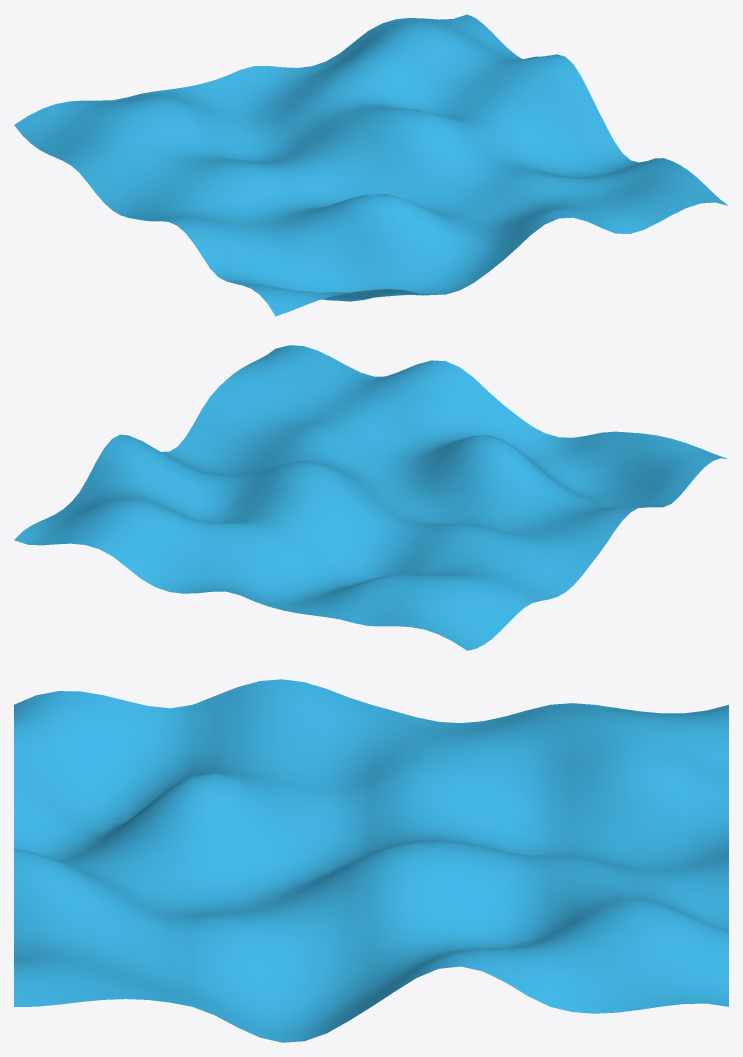
File: asd.gltf
3 views of the same model, one above another, from view 1: azimuth 30°, elevation 25°; view 2: azimuth 150°, elevation 25°; view 3: azimuth 270°, elevation 25° (orthographic). The views are drawn at different scales.
Parts seen in each view (by area): view 1: Plane; view 2: Plane; view 3: Plane.
Boxes of the visible parts, box(x1,y1,x2,y2) form: Plane: box(14, 14, 728, 316); Plane: box(14, 345, 728, 650); Plane: box(14, 679, 728, 1042).
Size of the model in its own units: 20 by 2.61 by 20.
